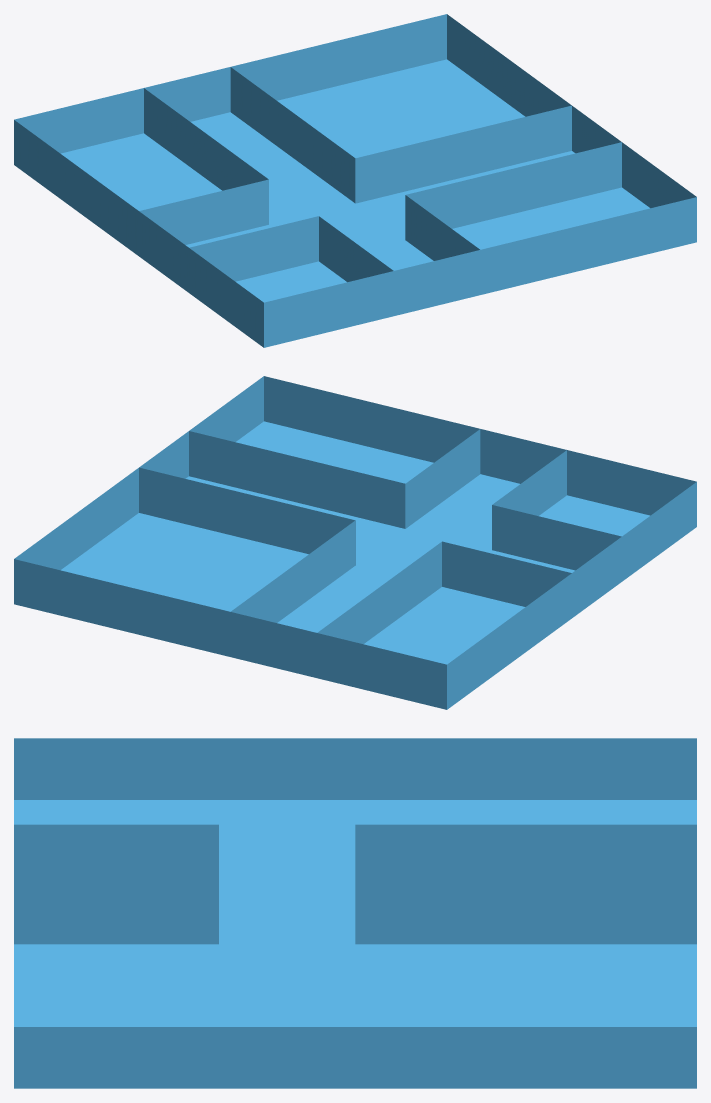
The model's file is grid_inter.gltf.
The picture shows the model from 3 angles, top to bottom: view 1: azimuth 30°, elevation 25°; view 2: azimuth 150°, elevation 25°; view 3: azimuth 270°, elevation 25°; orthographic projection. The views are drawn at different scales.
Visible parts, largest first — view 1: COLLISION; view 2: COLLISION; view 3: COLLISION.
Part boxes in pixels (x1,y1,x2,y2): COLLISION: [14, 14, 696, 347]; COLLISION: [14, 376, 696, 709]; COLLISION: [14, 738, 696, 1088].
Size of the model in its own units: 30.48 by 3.05 by 30.48.
